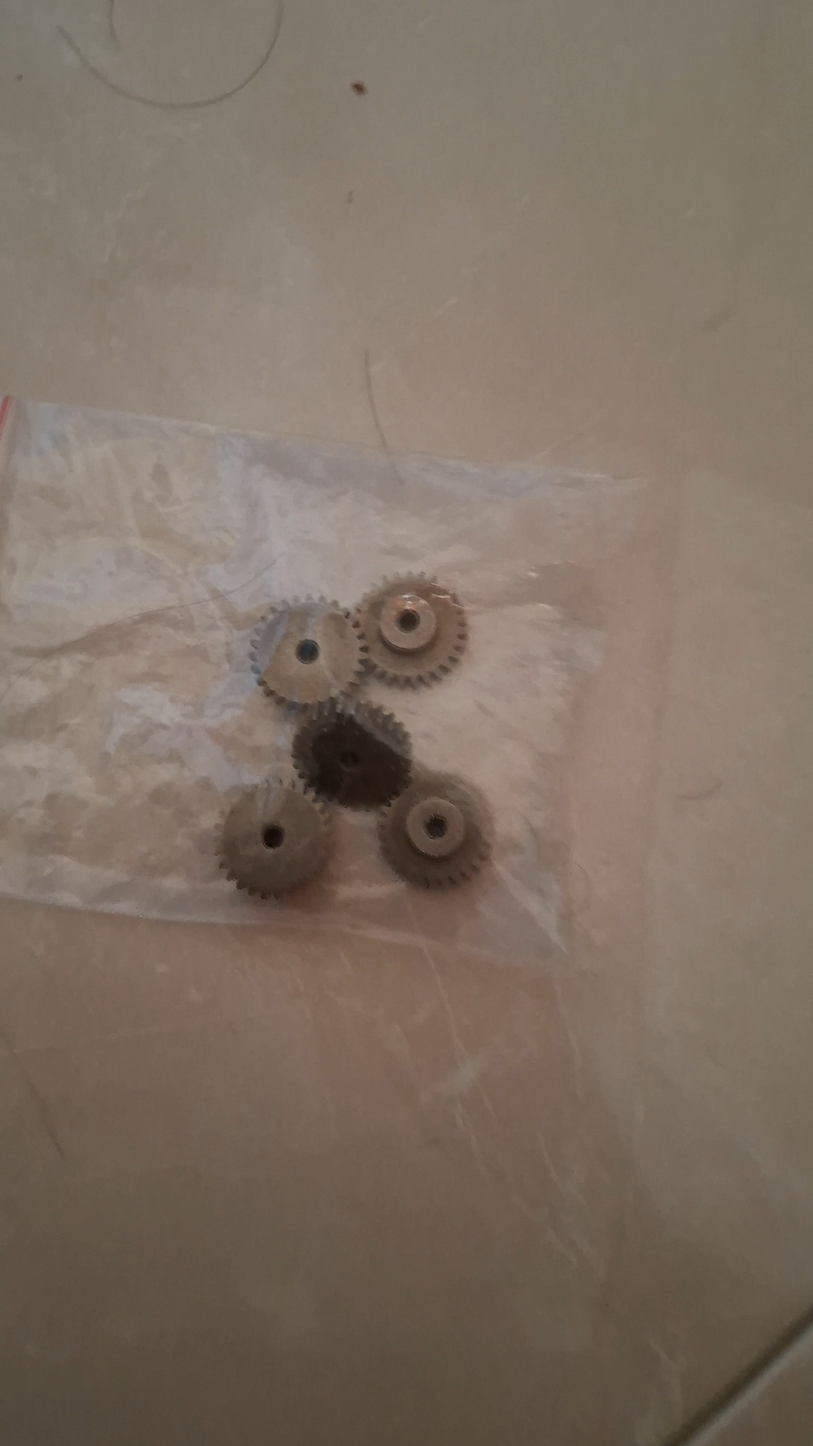spur gear: (293, 699, 411, 808), (379, 773, 490, 887), (352, 575, 467, 685), (220, 779, 327, 897), (250, 598, 364, 707)
